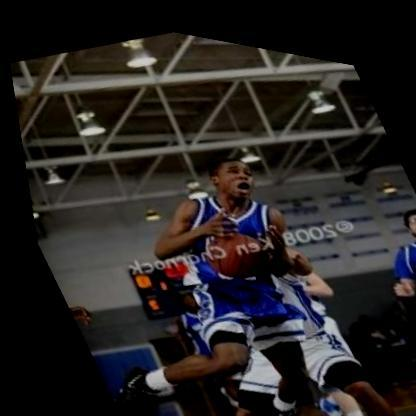basketball: (185, 206, 276, 285)
